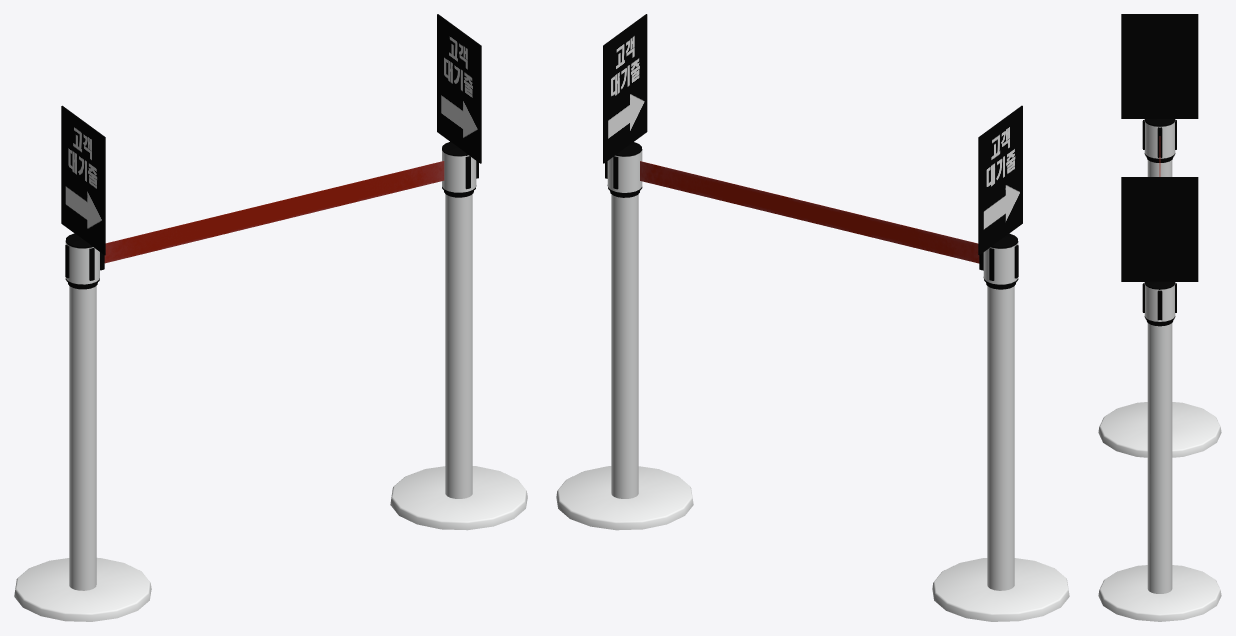
The model's file is LC_3062_rod_LOD3.fbx.
The picture shows the model from 3 angles, left to right: view 1: azimuth 30°, elevation 25°; view 2: azimuth 150°, elevation 25°; view 3: azimuth 270°, elevation 25°; orthographic projection. The views are drawn at different scales.
Parts seen in each view (by area): view 1: LC_3062_rod_LOD3; view 2: LC_3062_rod_LOD3; view 3: LC_3062_rod_LOD3.
Part boxes in pixels (left/top/right/bottom): LC_3062_rod_LOD3: left=14, top=14, right=527, bottom=621; LC_3062_rod_LOD3: left=556, top=14, right=1069, bottom=621; LC_3062_rod_LOD3: left=1098, top=14, right=1221, bottom=621.
Size of the model in its own units: 132 by 120 by 32.
1 material, 1 textured.
